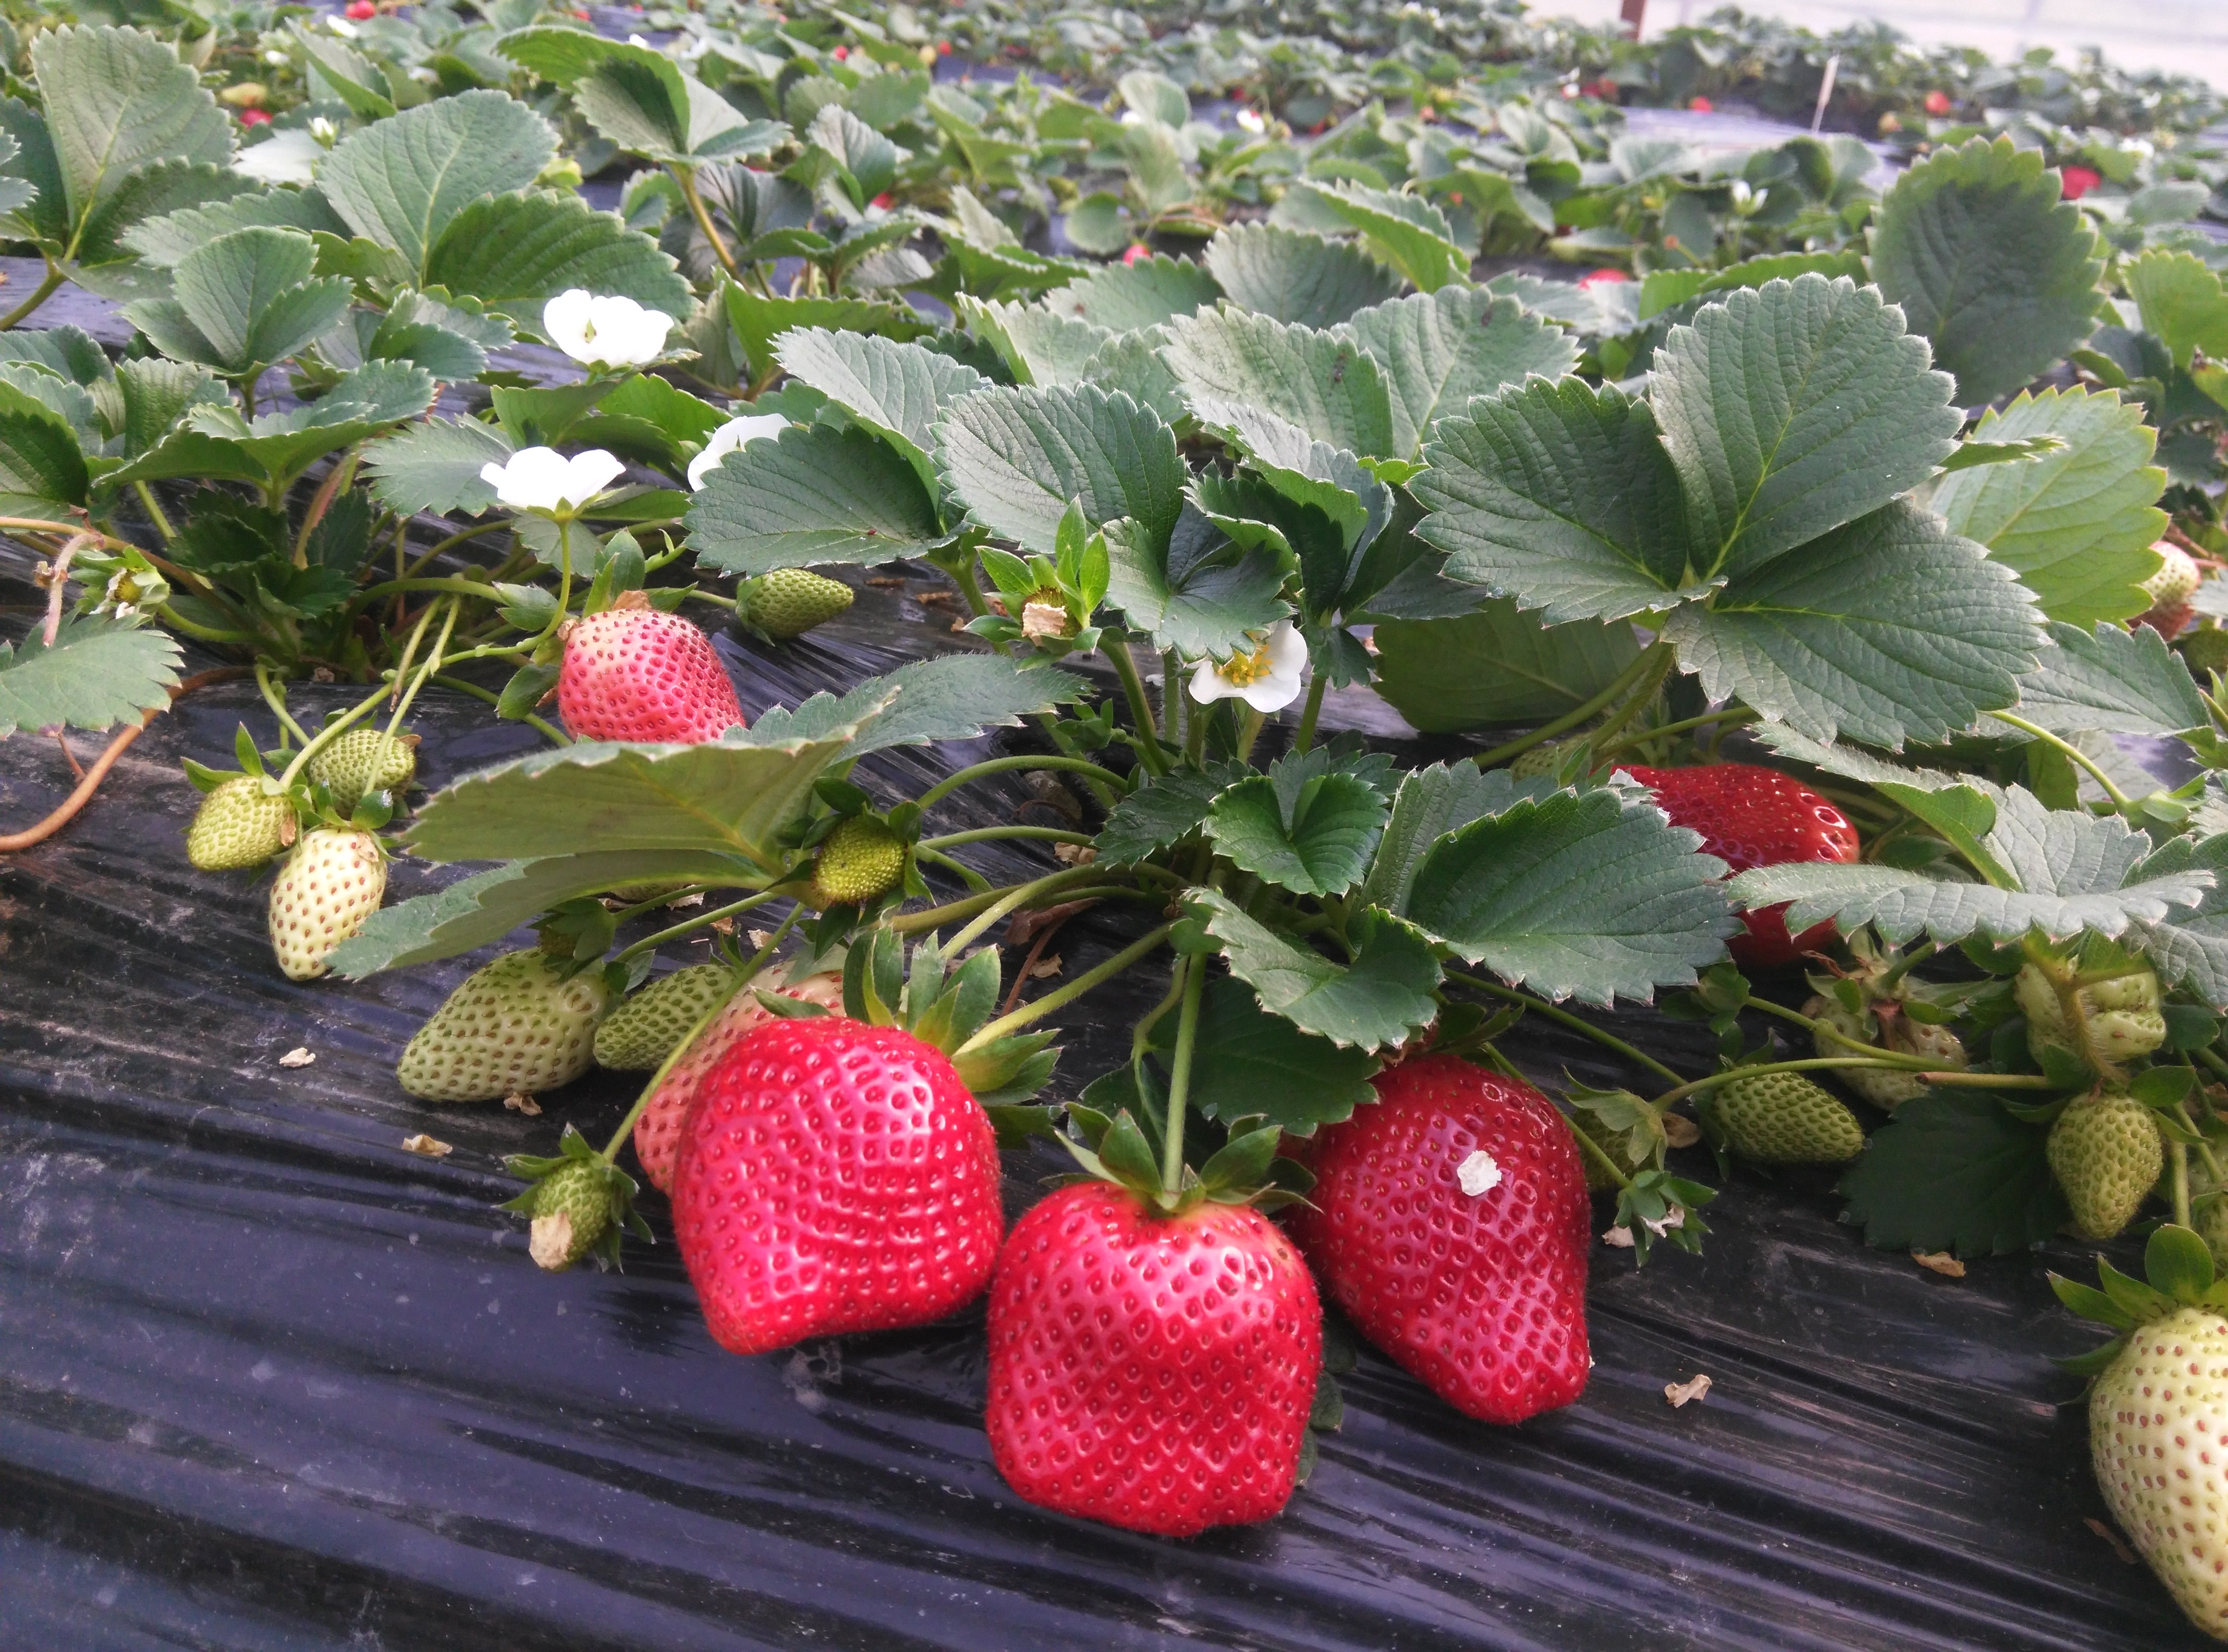StrawberryIrremovable: (392, 942, 613, 1105), (538, 604, 737, 755), (2084, 1305, 2188, 1591), (2002, 921, 2167, 1069), (2044, 1083, 2167, 1246), (271, 817, 390, 977), (1709, 1050, 1871, 1168), (593, 961, 753, 1067), (515, 1150, 632, 1275), (179, 767, 305, 876), (729, 560, 859, 647), (810, 810, 914, 908), (314, 722, 420, 816)
StrawberryOther: (1589, 741, 1883, 961)
StrawberryRemovable: (991, 1157, 1336, 1558), (1298, 1055, 1600, 1423), (672, 1022, 999, 1357), (1598, 743, 1881, 958)
StrawberryWedge: (991, 1163, 1329, 1553), (1291, 1053, 1603, 1426), (666, 1017, 1001, 1355)
